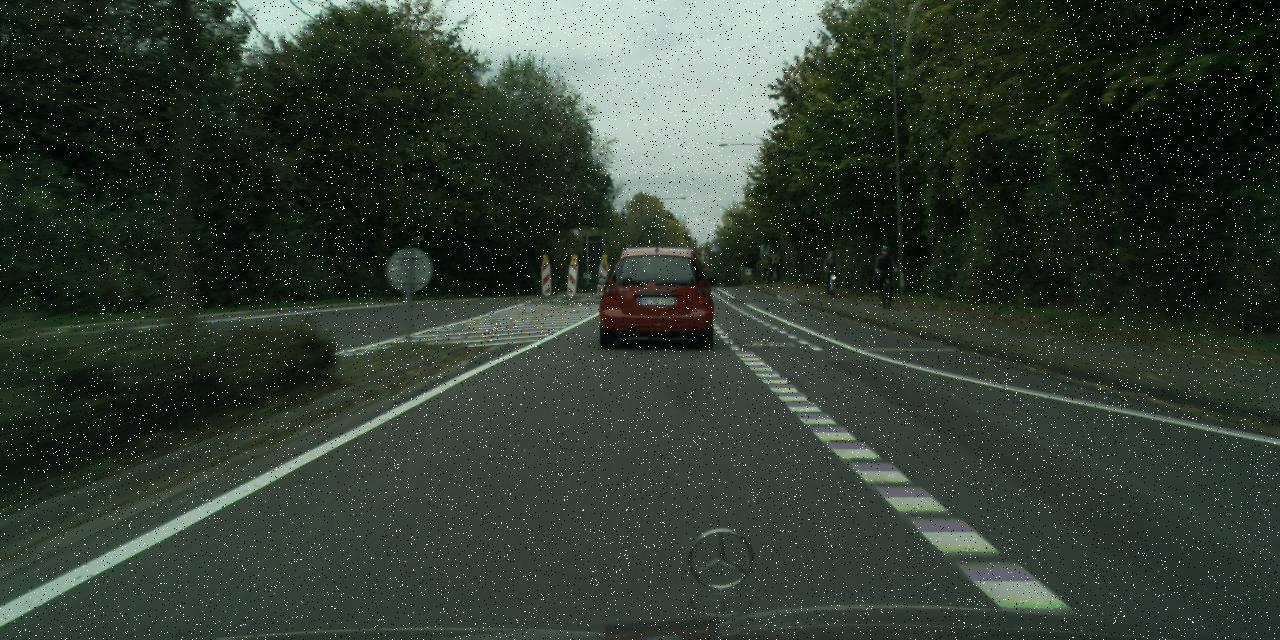ped: (874, 245, 896, 299), (823, 250, 839, 290)
